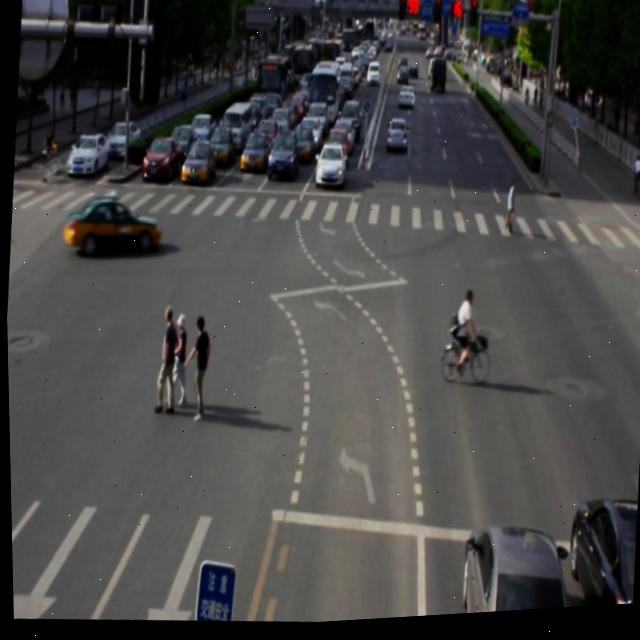car: (454, 529, 569, 619), (559, 504, 636, 614), (62, 192, 163, 261)
